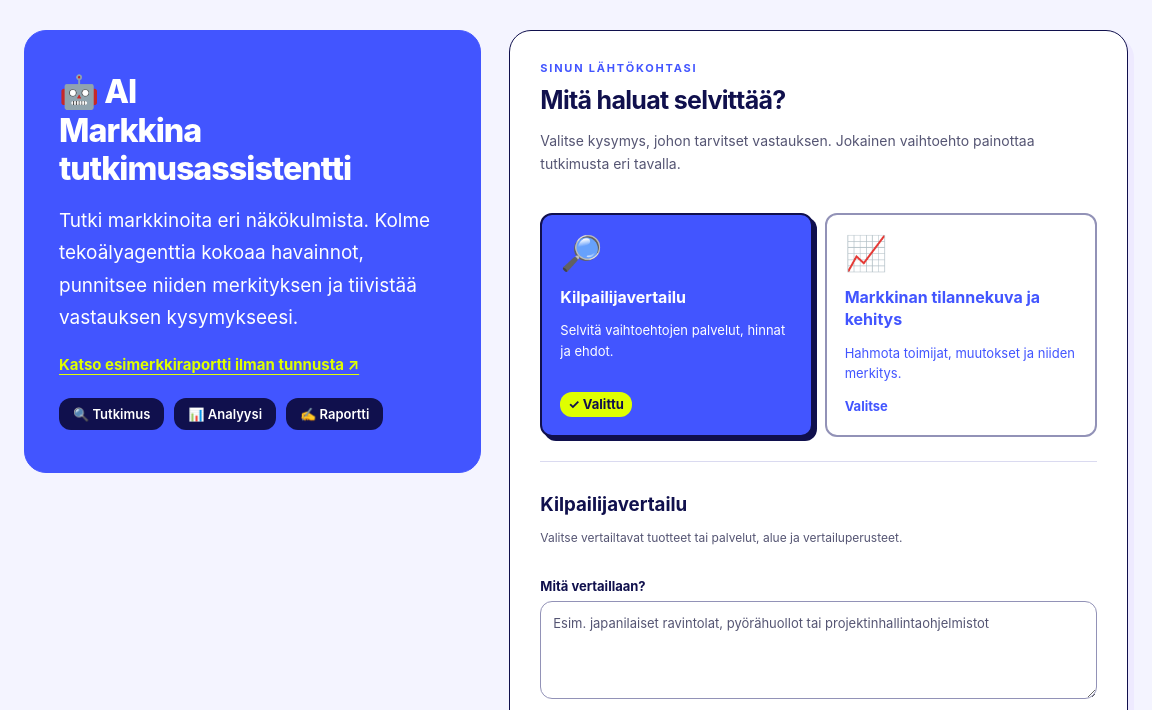
Test: market area dropdown defaults to Finland and sends the selected scope
Click the button "Markkinan tilannekuva ja kehitys" at point(866, 253), box [825, 213, 1097, 437]
(page scrolled)
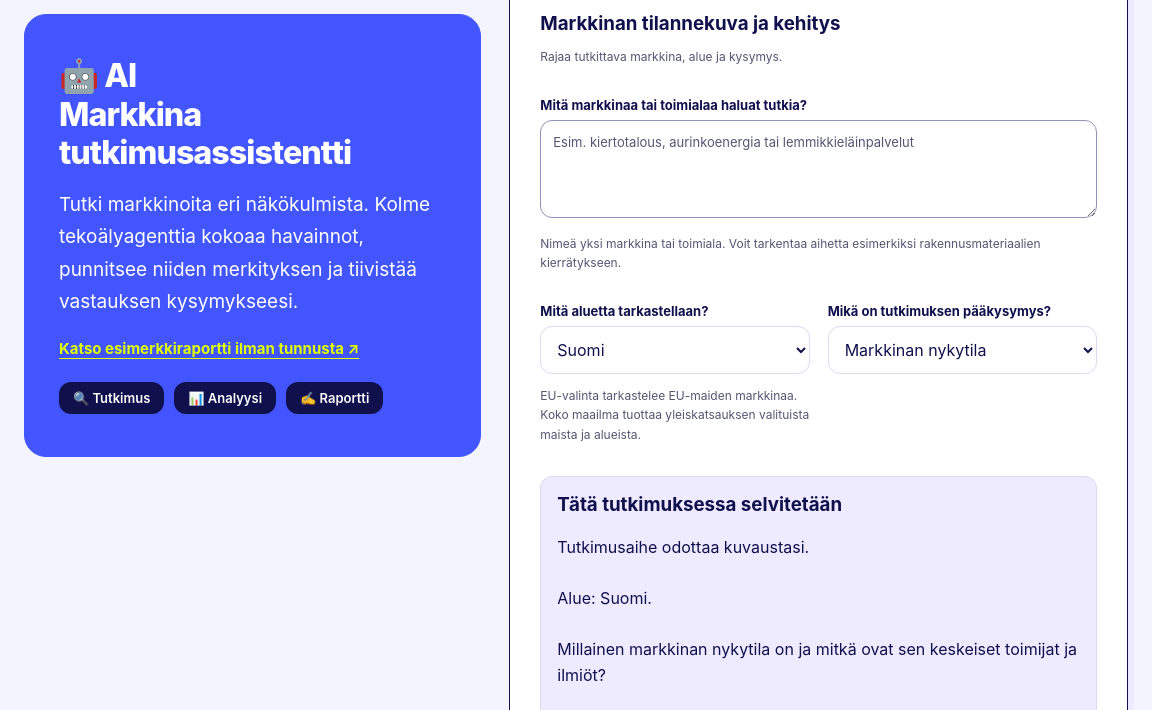
Expected: the dropdown labelled "Mitä aluetta tarkastellaan?" shows "Suomi"
Select "Euroopan unioni" in the dropdown labelled "Mitä aluetta tarkastellaan?" at point(675, 350), box [540, 326, 810, 374]
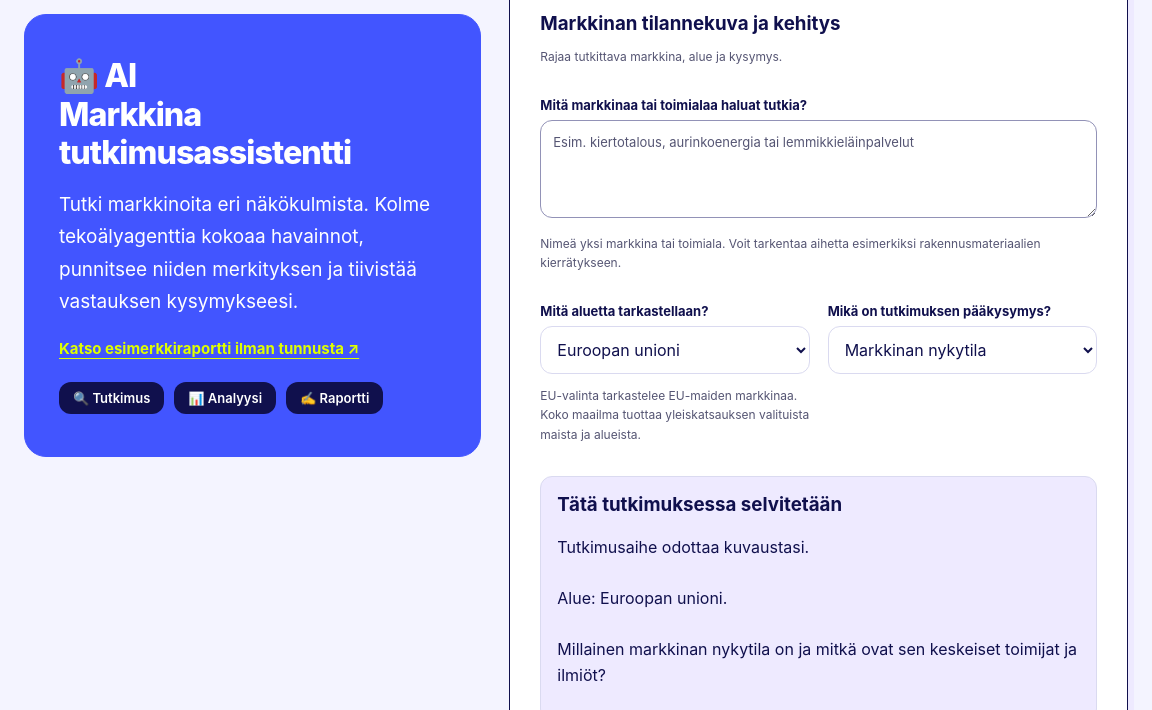
Select "Koko maailma — yleiskatsaus" in the dropdown labelled "Mitä aluetta tarkastellaan?" at point(675, 350), box [540, 326, 810, 374]
(page scrolled)
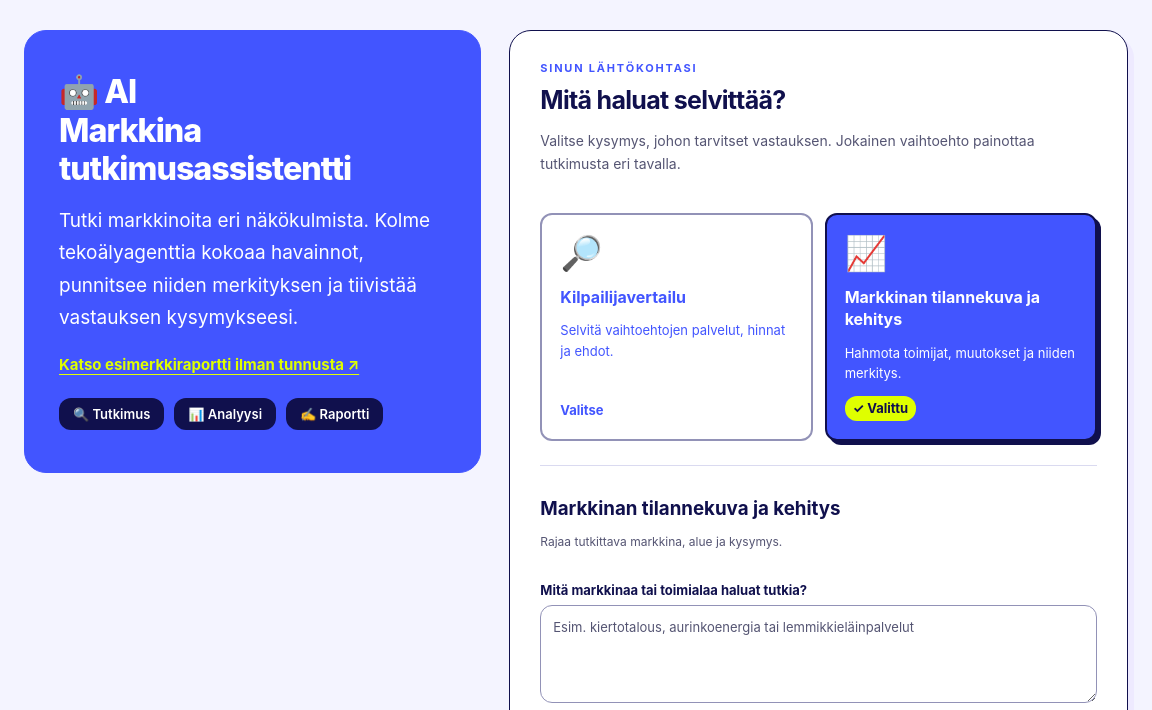
Click the button "Kilpailijavertailu" at point(676, 327), box [540, 213, 813, 441]
(page scrolled)
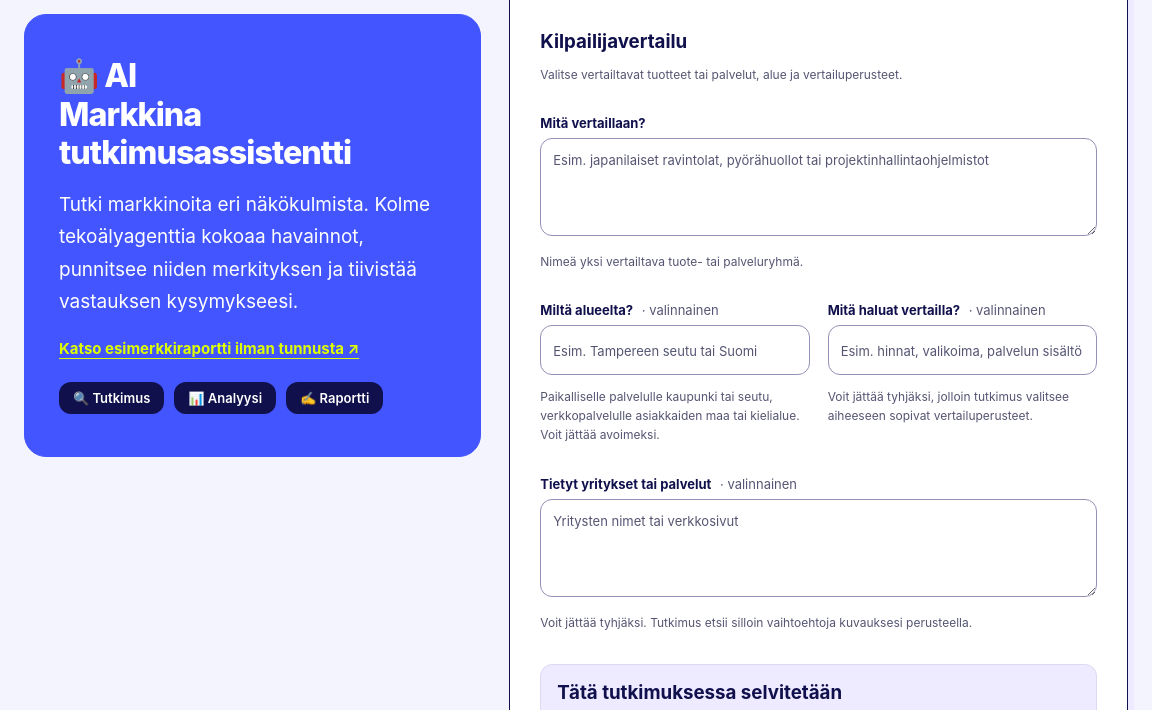
Type "Tampereen seutu" into the field labelled "Miltä alueelta? · valinnainen" at point(675, 350), box [540, 325, 810, 375]
(page scrolled)
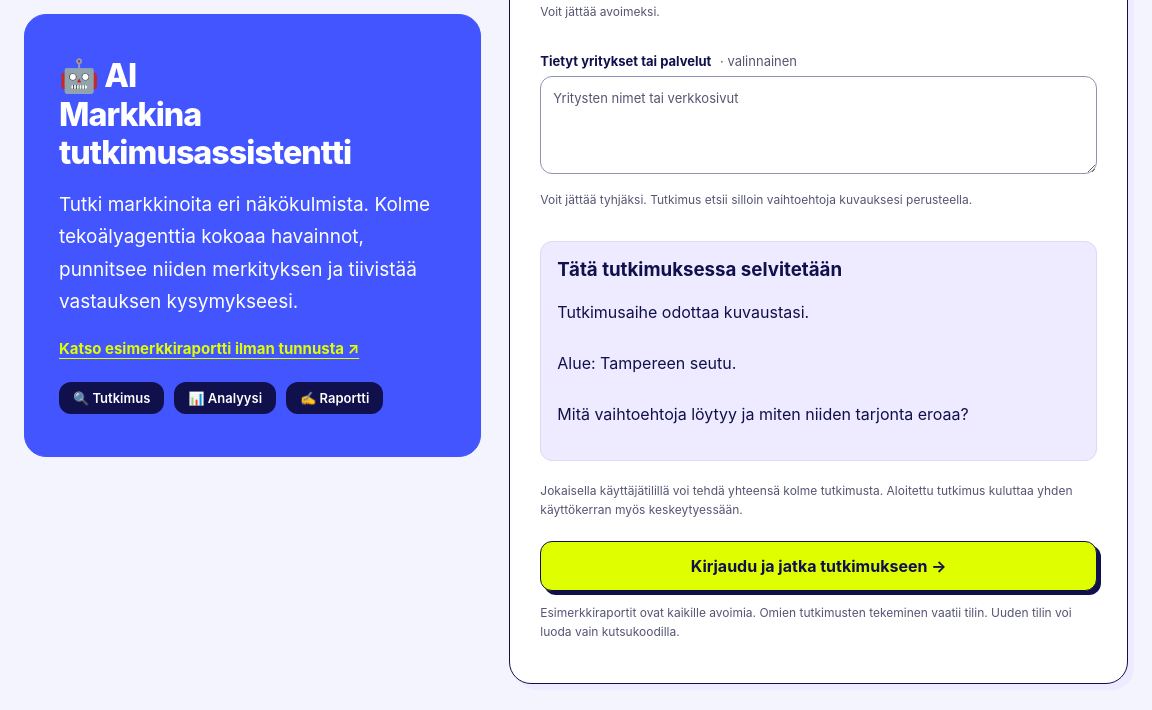
Expected: the element named "Tutkimuskysymyksen esikatselu" shows "Alue: Tampereen seutu.", [557, 302, 969, 424]
